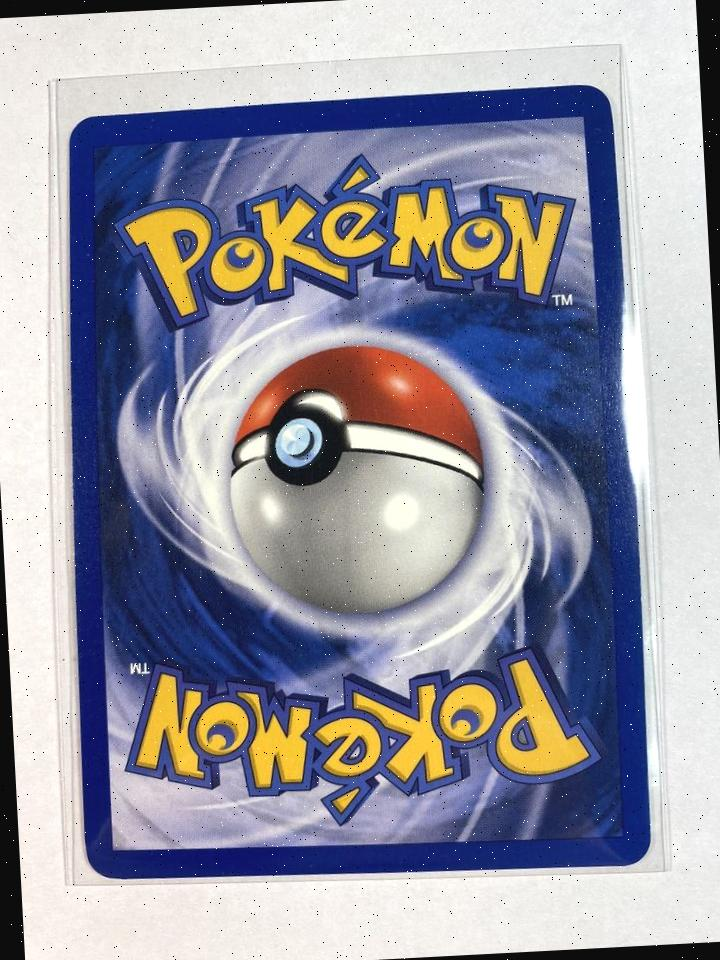card-2UtV: (67, 83, 651, 880)
